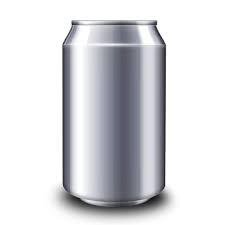Metal: (62, 20, 165, 207)
